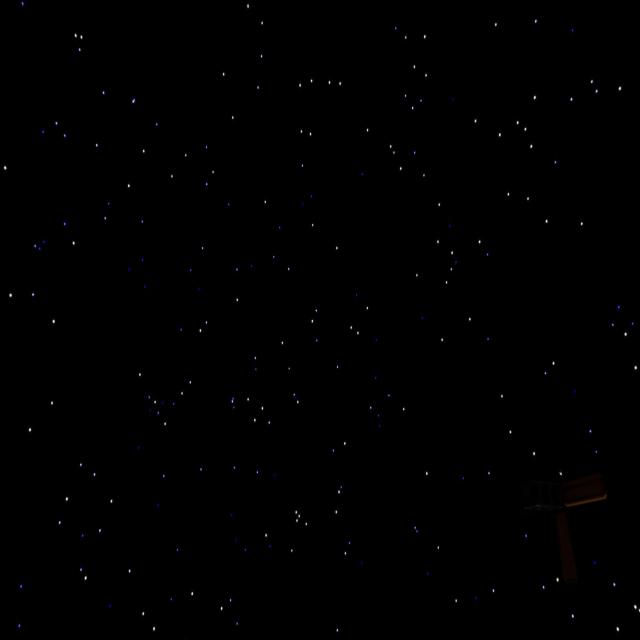satellite: (524, 458, 612, 595)
